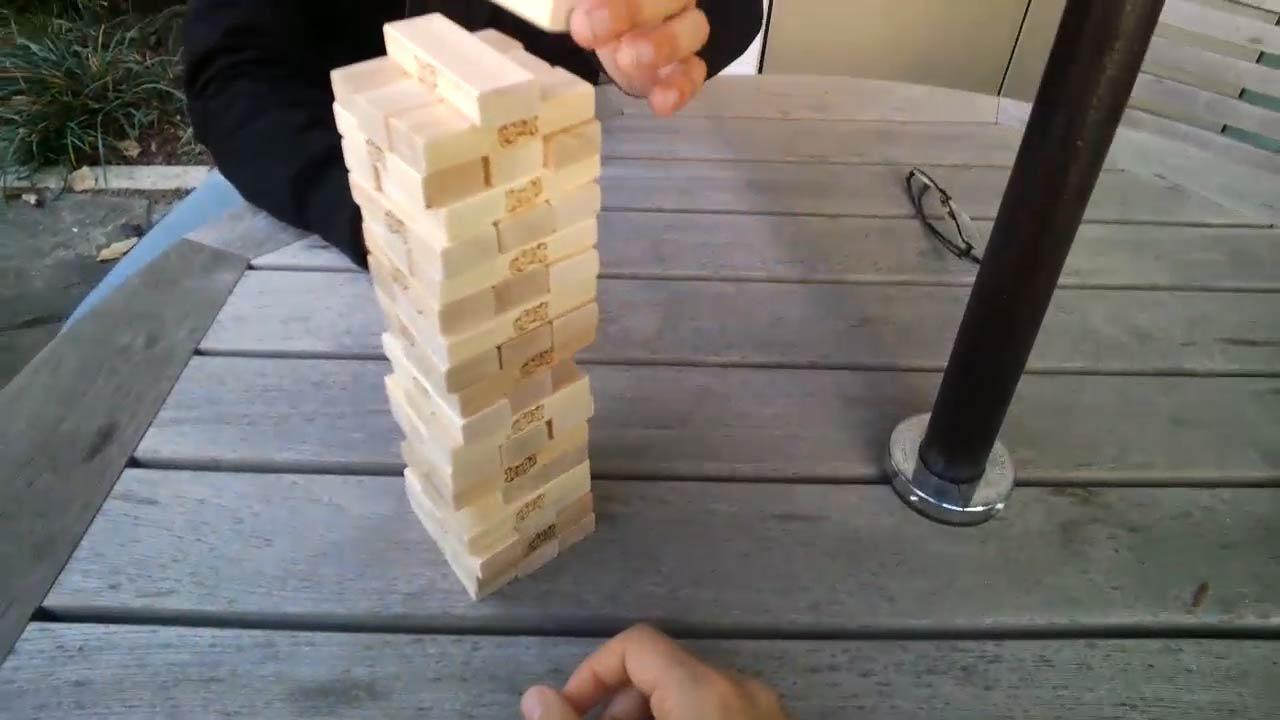hand: (511, 625, 814, 720), (568, 2, 715, 119)
